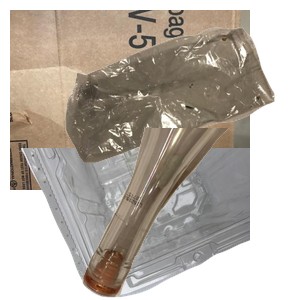cardboard: (10, 10, 250, 190)
glass: (80, 128, 300, 300)
plastic: (19, 148, 259, 300)
trash: (63, 24, 300, 179)
